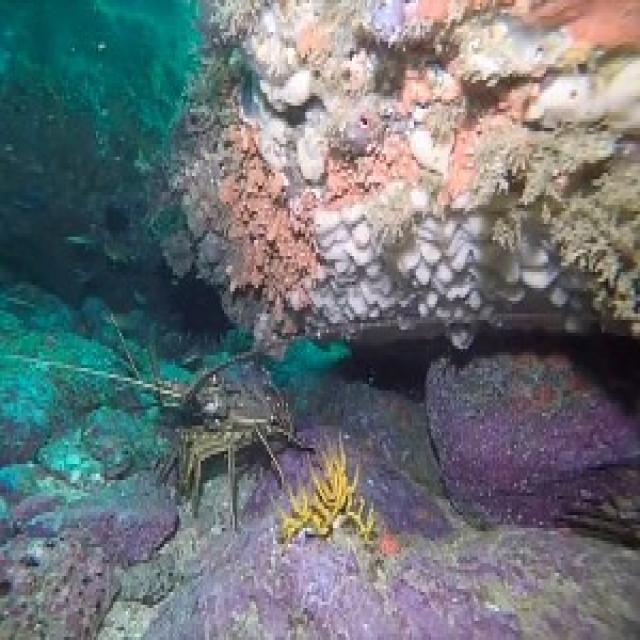lobsters: (22, 281, 336, 501)
